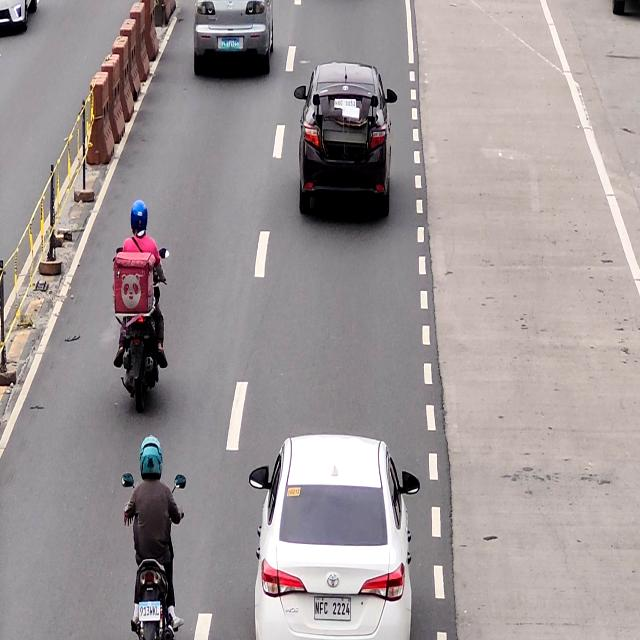Car: (253, 437, 412, 640), (301, 62, 389, 217), (194, 0, 275, 75)
License-Plate: (314, 598, 351, 620), (137, 600, 162, 621), (334, 96, 358, 112), (219, 36, 239, 48)
Motorcycle: (125, 435, 179, 640), (118, 199, 162, 415)
